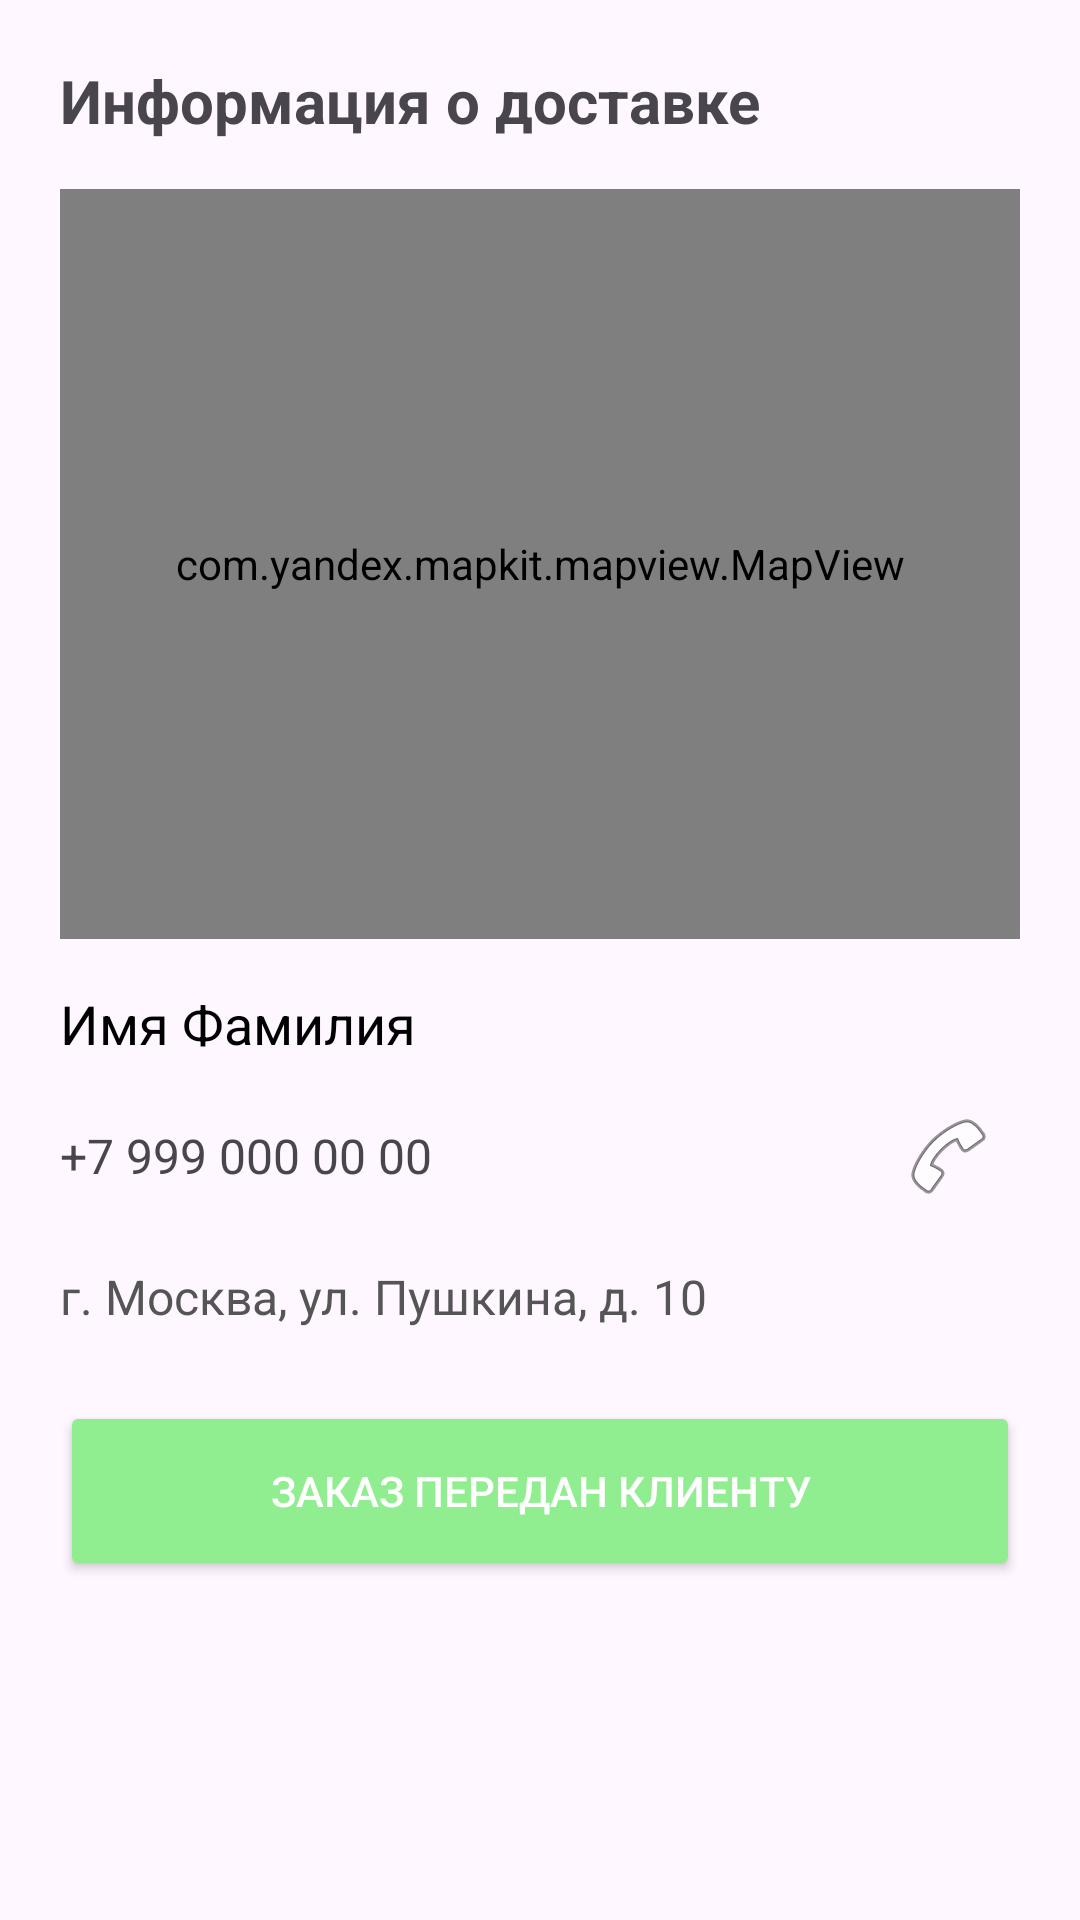

Icon bounding boxes for this 1080x1920 phone screenshot, format (x1, y1, x2, y2):
call: (911, 1119, 986, 1194)
